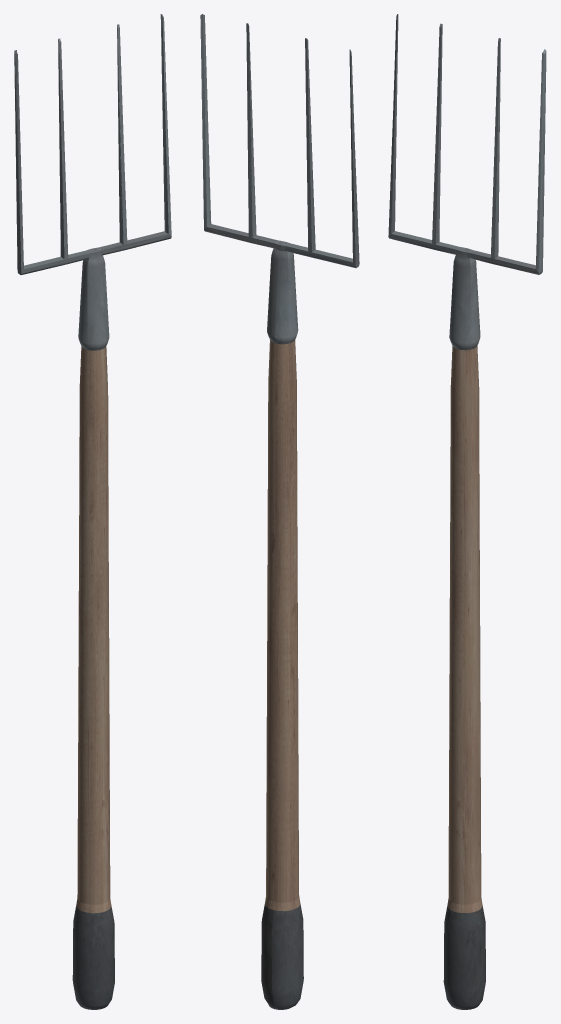
File: pitchforkTextured.fbx
The picture shows the model from 3 angles, left to right: view 1: azimuth 30°, elevation 25°; view 2: azimuth 150°, elevation 25°; view 3: azimuth 330°, elevation 25°; orthographic projection.
Parts seen in each view (by area): view 1: pCylinder20; view 2: pCylinder20; view 3: pCylinder20.
Part boxes in pixels (box(x1,y1,x2,y2)): pCylinder20: box(14, 14, 171, 1009); pCylinder20: box(200, 14, 359, 1009); pCylinder20: box(388, 14, 546, 1009).
Size of the model in its own units: 0.7209 by 4.44 by 0.1759.
Materials: 1 (1 with a texture image).
